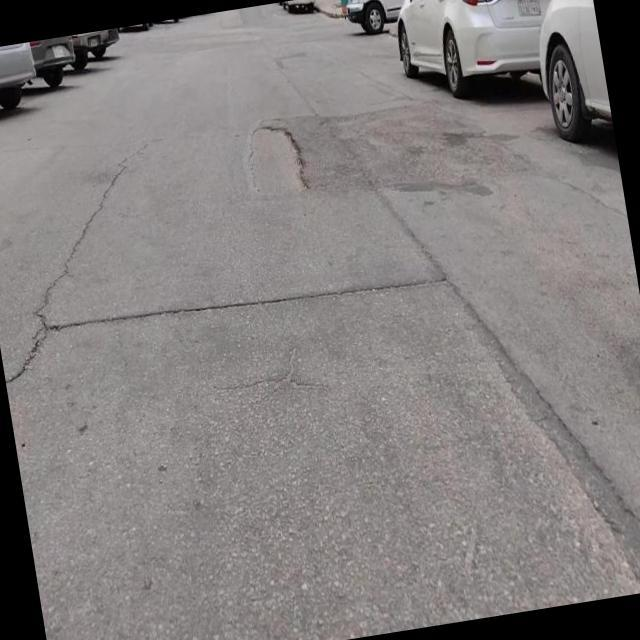Pothole: (247, 123, 310, 197)
